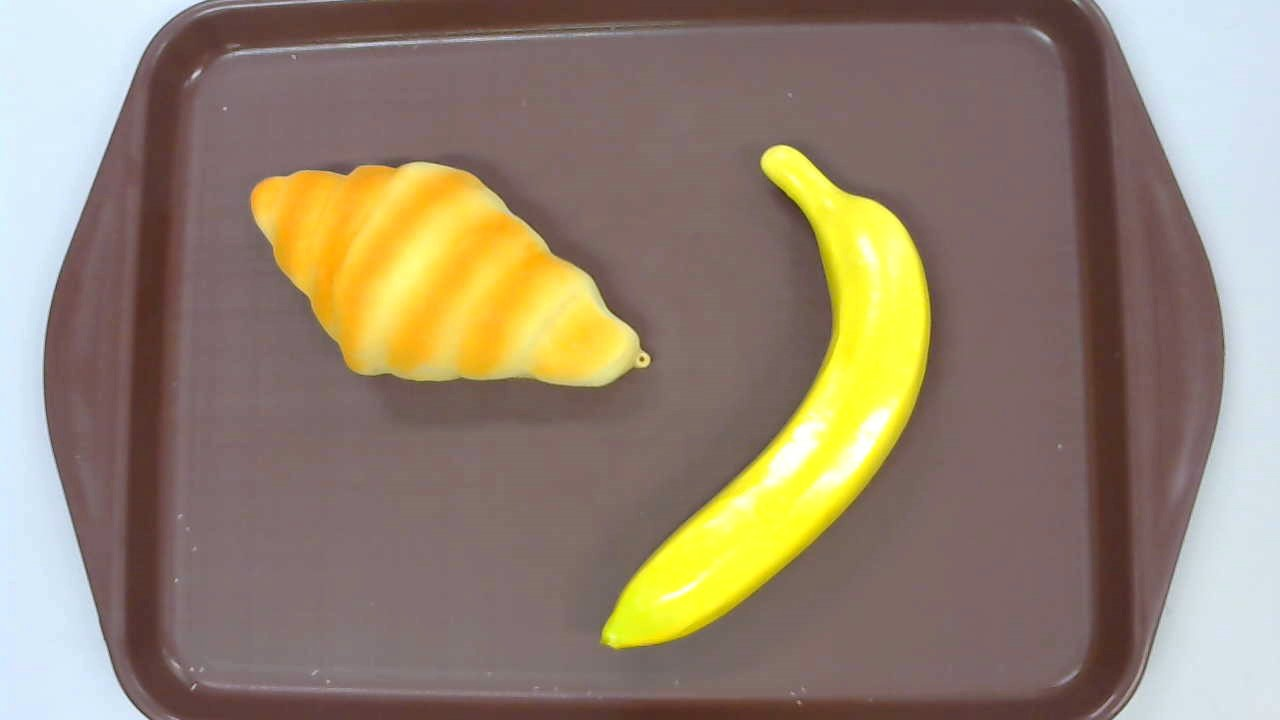banana: (600, 144, 931, 651)
croissant: (250, 160, 650, 386)
